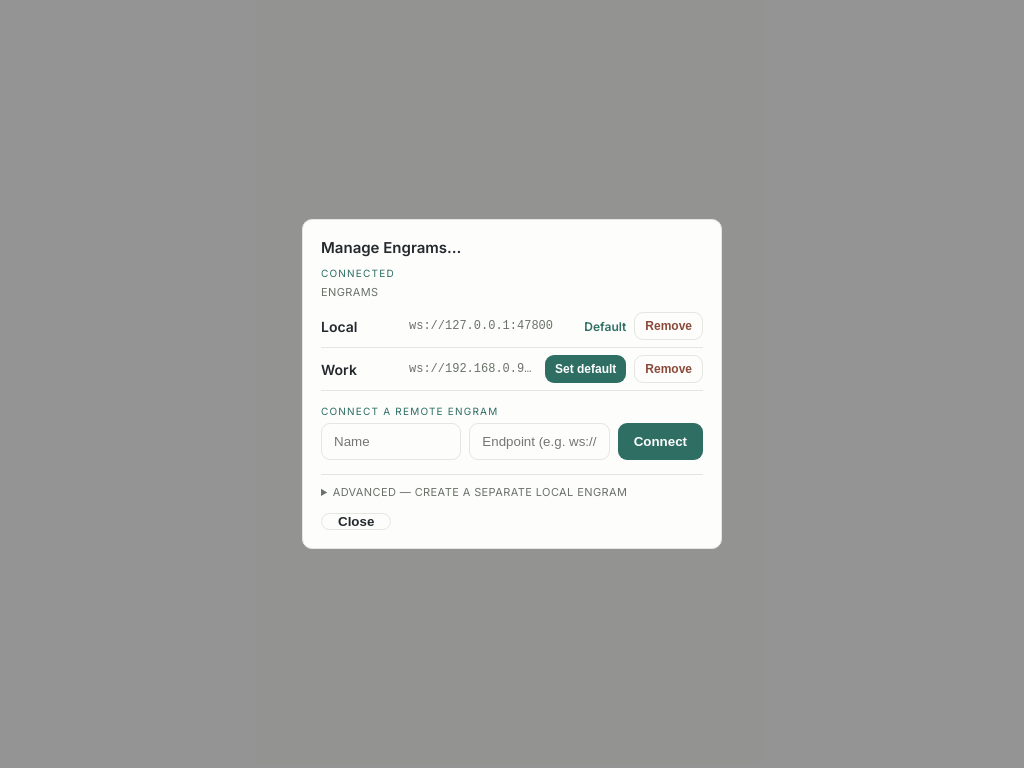
Test: Advanced — create a separate local Engram › closing the details disarms the confirm step
Step 1. Click the heading "Advanced — create a separate local Engram" → click(480, 492), box left=333, top=485, right=627, bottom=499
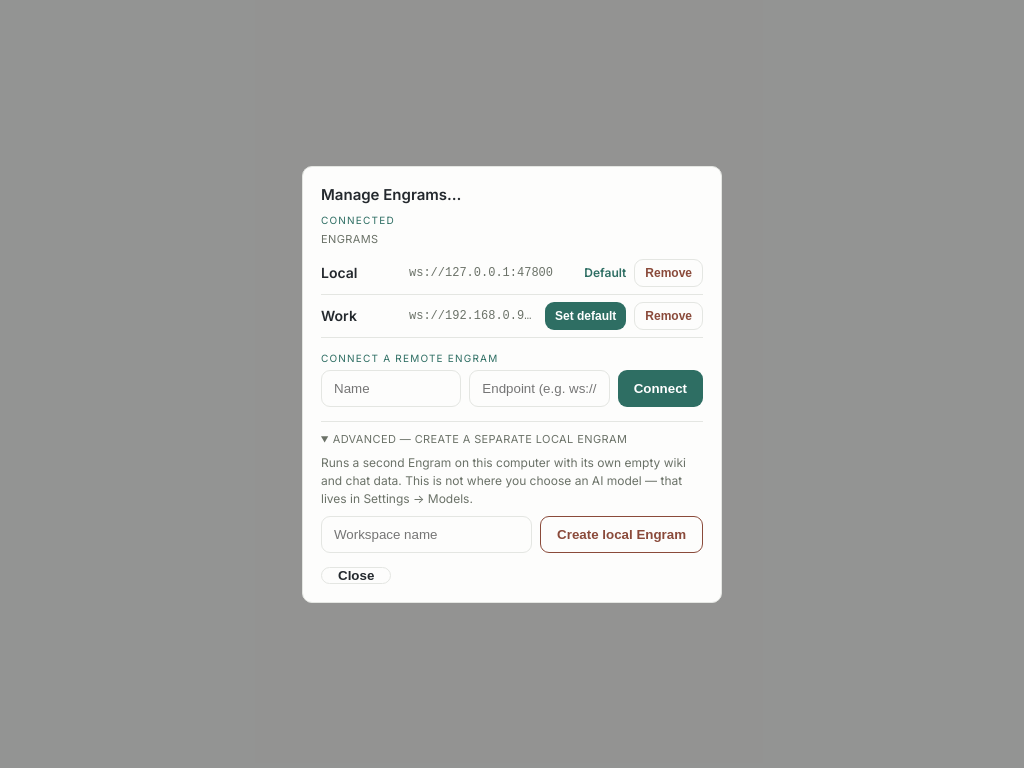
Step 2. Click the button "Create local Engram" → click(622, 534), box left=540, top=516, right=703, bottom=552
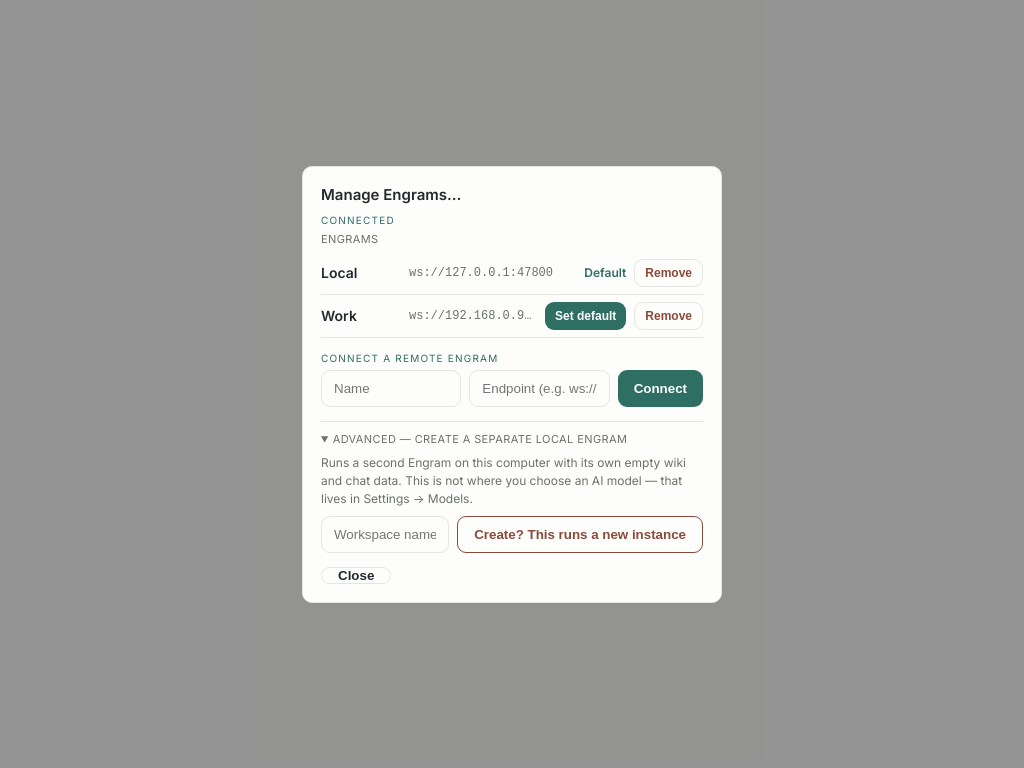
Expected: the button "Create? This runs a new instance" is shown, left=457, top=516, right=703, bottom=552
Step 3. Click the heading "Advanced — create a separate local Engram" → click(480, 438), box left=333, top=432, right=627, bottom=446
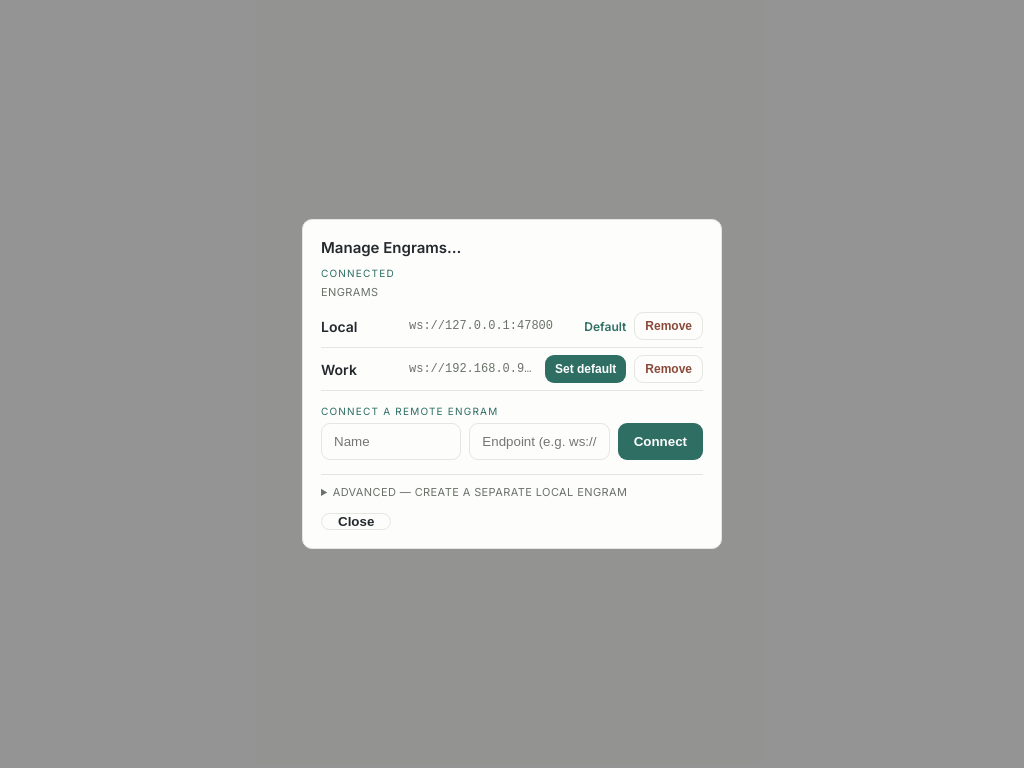
Step 4. Click the heading "Advanced — create a separate local Engram" → click(480, 492), box left=333, top=485, right=627, bottom=499
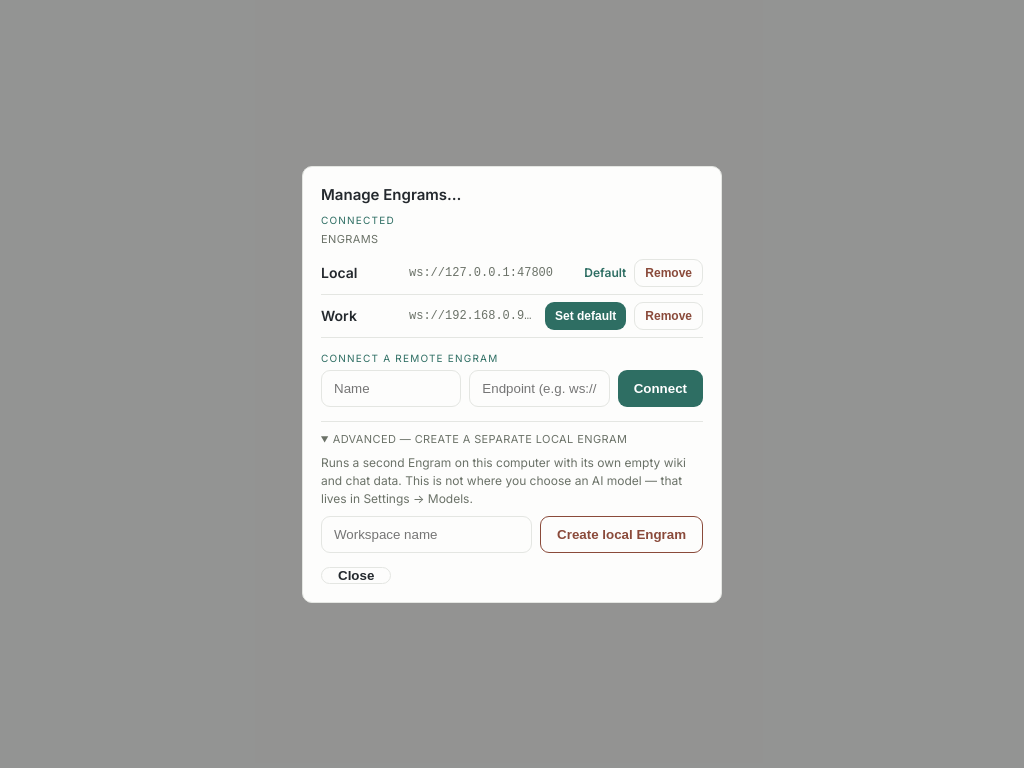
Expected: the button "Create local Engram" is shown, left=540, top=516, right=703, bottom=552
